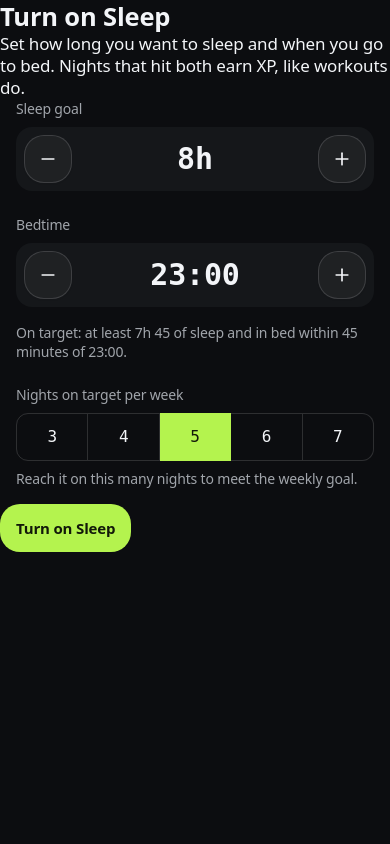
Test: SleepSetup › moves the bedtime 15 minutes at a time, across midnight
Click the button named "Bedtime 15 minutes later" at (342, 275), box [318,251,366,299]
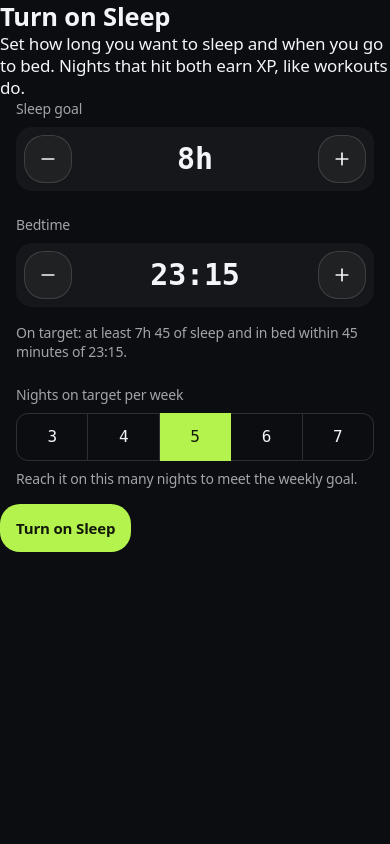
Expected: the text "23:15" is shown, [150,257,240,293]
Click the button named "Bedtime 15 minutes later" at (342, 275), box [318,251,366,299]
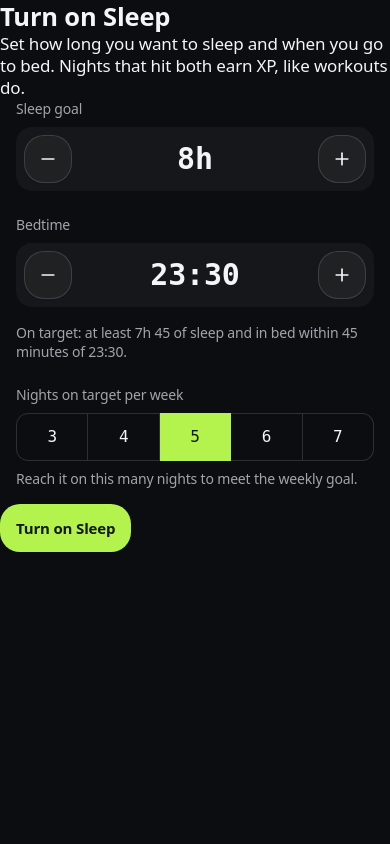
Click the button named "Bedtime 15 minutes later" at (342, 275), box [318,251,366,299]
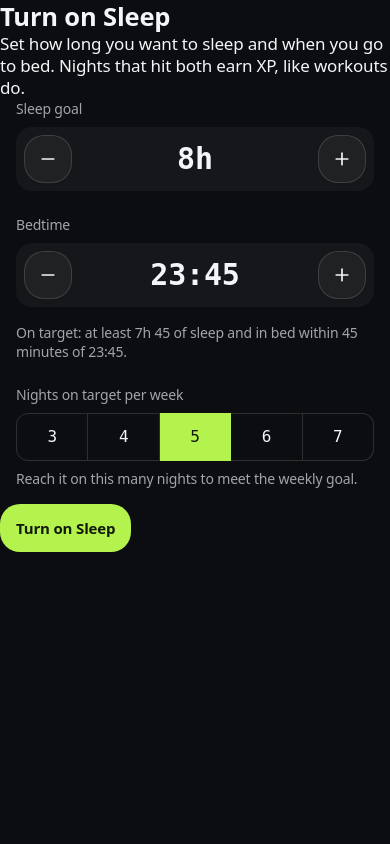
Click the button named "Bedtime 15 minutes later" at (342, 275), box [318,251,366,299]
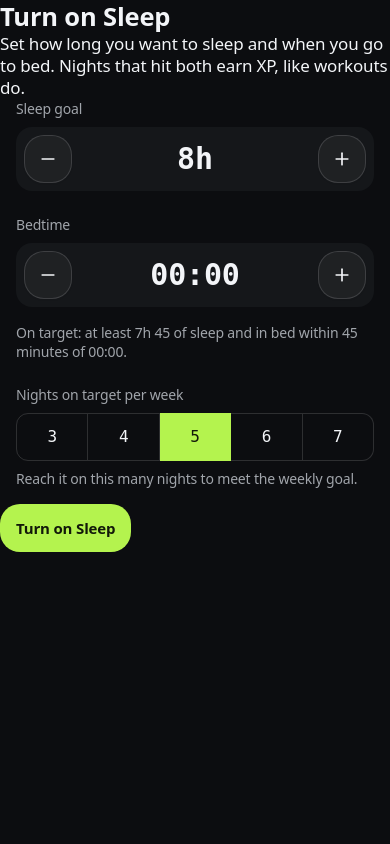
Expected: the text "00:00" is shown, [150,257,240,293]
Click the button named "Bedtime 15 minutes earlier" at (48, 275), box [24,251,72,299]
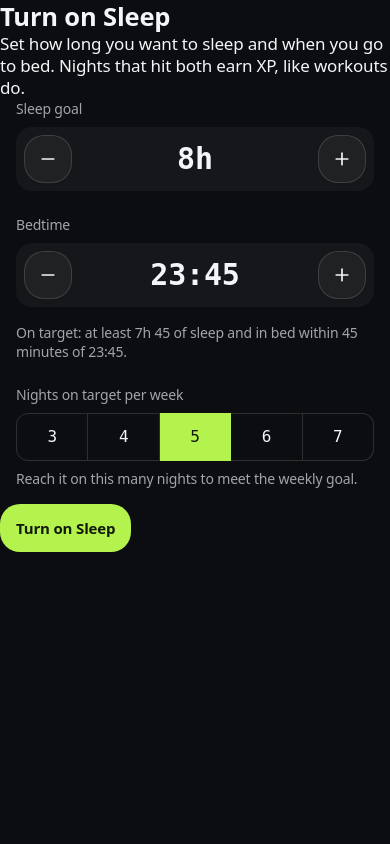
Expected: the text "23:45" is shown, [150,257,240,293]
